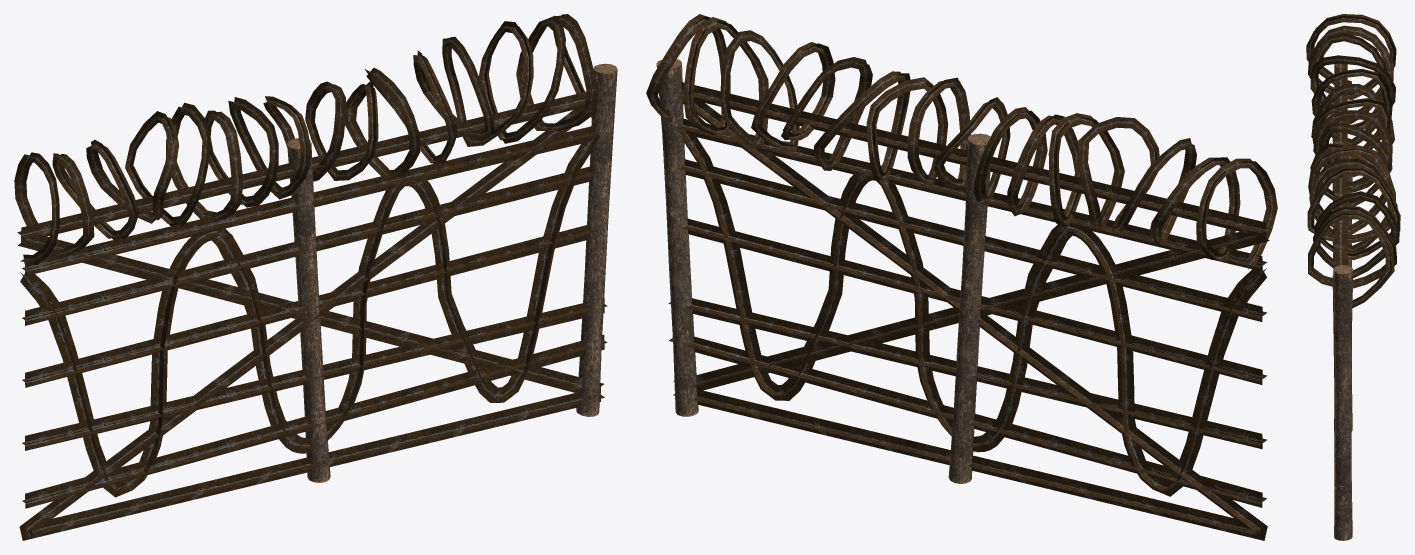
The model's file is Fence_wood_03.FBX.
3 renders of one model, left to right at view 1: azimuth 30°, elevation 25°; view 2: azimuth 150°, elevation 25°; view 3: azimuth 270°, elevation 25°, orthographic. The views are drawn at different scales.
Parts seen in each view (by area): view 1: Fence_wood_wire_03, Fence_wood_03; view 2: Fence_wood_wire_03, Fence_wood_03; view 3: Fence_wood_wire_03, Fence_wood_03.
Part boxes in pixels (x1=…): Fence_wood_wire_03: x1=14, y1=14, x2=607, y2=540; Fence_wood_03: x1=287, y1=63, x2=617, y2=482; Fence_wood_wire_03: x1=646, y1=14, x2=1277, y2=540; Fence_wood_03: x1=656, y1=59, x2=990, y2=483; Fence_wood_wire_03: x1=1306, y1=14, x2=1400, y2=528; Fence_wood_03: x1=1333, y1=146, x2=1353, y2=540.
Bounding box in the file's own units: 501 × 317 × 84.1.
